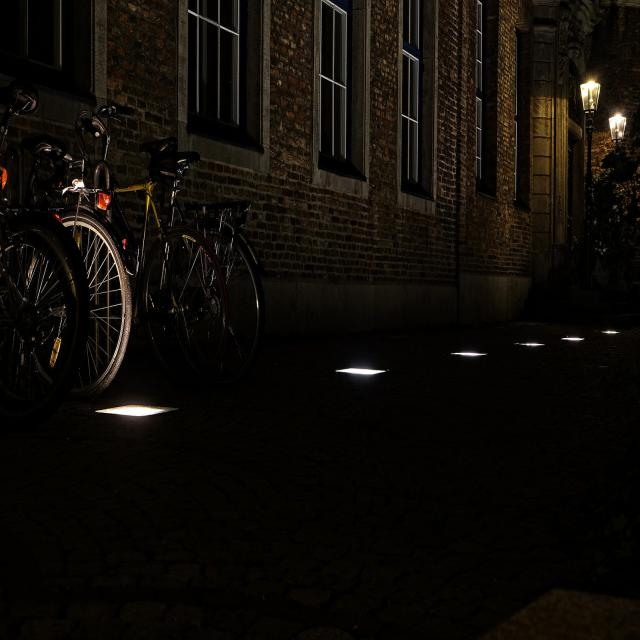Bicycle: (136, 137, 276, 390), (45, 127, 164, 399), (0, 114, 98, 412)
